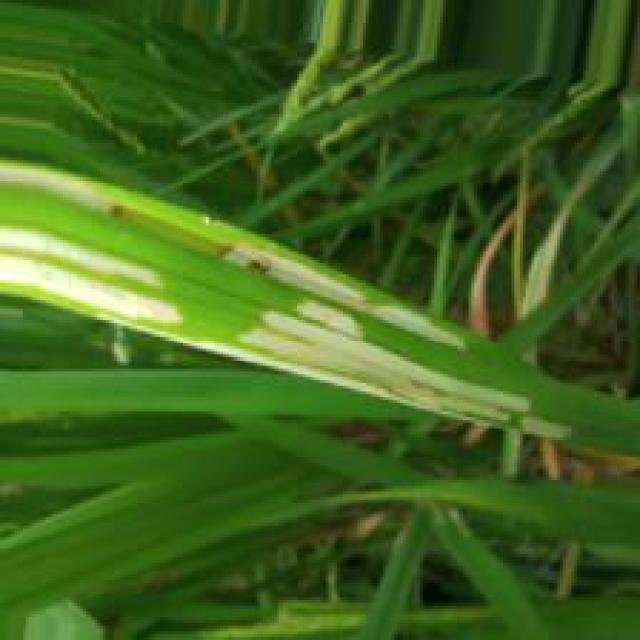Rice_Hispa: (190, 297, 568, 450), (224, 245, 451, 349), (0, 231, 188, 335)
